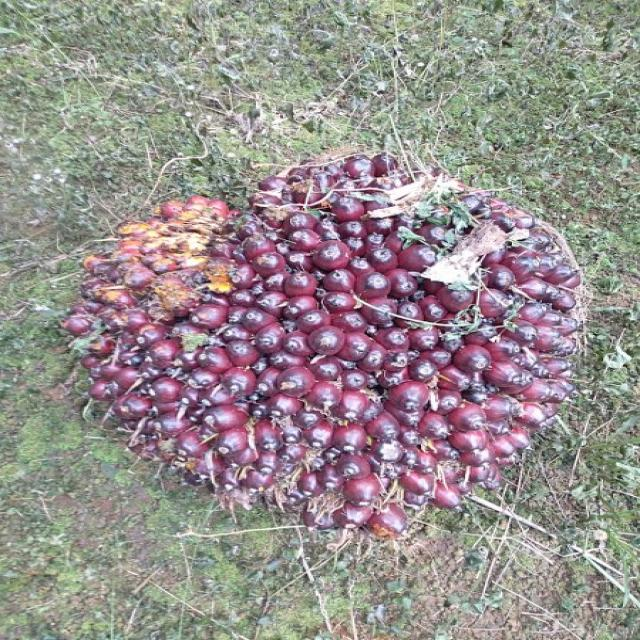fraksi 1: (59, 82, 593, 578)
